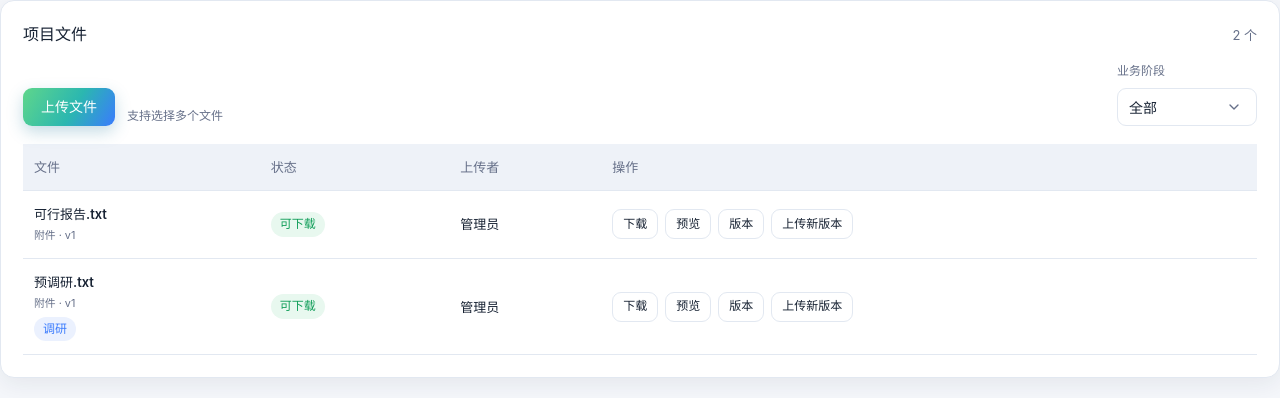
Test: project files workspace › filters the file list by business category and requests only matching rows
Check: the table named "项目文件" is shown, box [23,144,1257,355]
Check: the text "可行报告.txt" is shown, box [34,206,107,222]
Select "调研" in the dropdown named "筛选业务阶段": (1187, 107) [1117,88,1257,126]
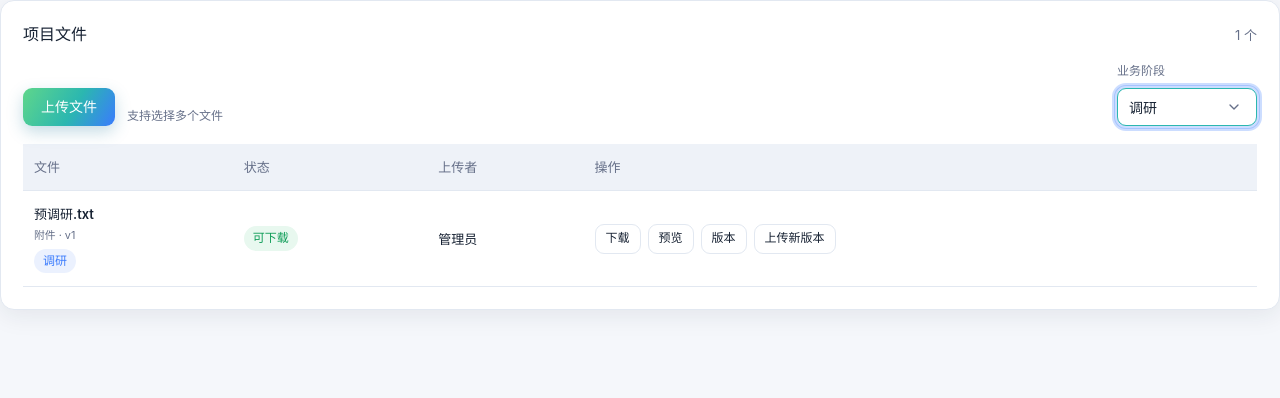
Check: the text "预调研.txt" is shown, box [34,206,94,222]
Check: the text "可行报告.txt" is gone
